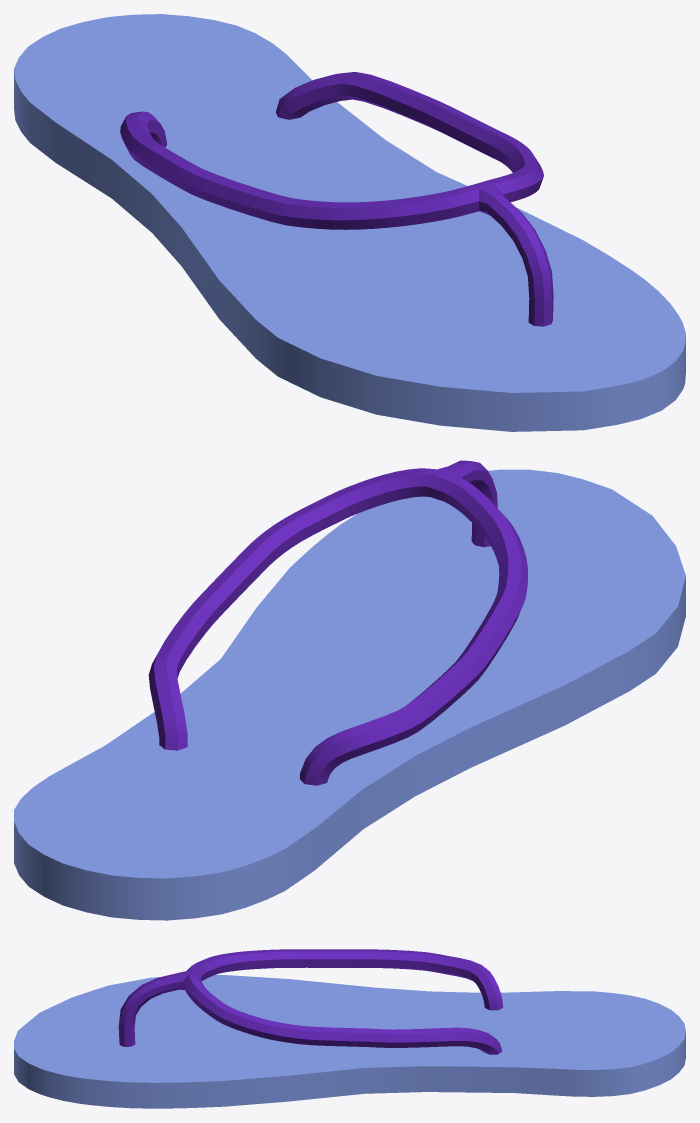
File: FlipFlopRight.fbx
3 views of the same model, one above another, from view 1: azimuth 30°, elevation 25°; view 2: azimuth 150°, elevation 25°; view 3: azimuth 270°, elevation 25° (orthographic). The views are drawn at different scales.
Parts seen in each view (by area): view 1: FlipFlopRight; view 2: FlipFlopRight; view 3: FlipFlopRight.
Part boxes in pixels (bbox=[...]): FlipFlopRight: bbox=[14, 14, 685, 431]; FlipFlopRight: bbox=[14, 460, 685, 920]; FlipFlopRight: bbox=[14, 949, 685, 1108].
Size of the model in its own units: 10.7 by 4.38 by 28.
